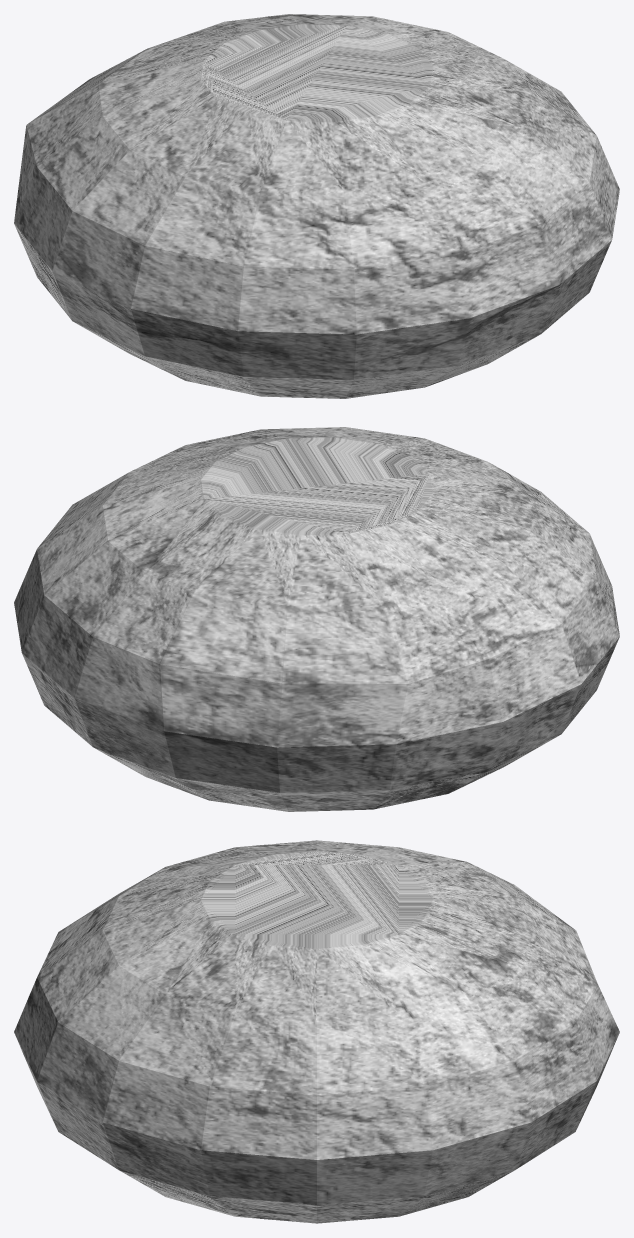
The model's file is rock3.glb.
3 views of the same model, one above another, from view 1: azimuth 30°, elevation 25°; view 2: azimuth 150°, elevation 25°; view 3: azimuth 270°, elevation 25° (orthographic).
Visible parts, largest first — view 1: 구체; view 2: 구체; view 3: 구체.
Boxes of the visible parts, box(x1,y1,x2,y2) form: 구체: box(14, 14, 619, 398); 구체: box(14, 427, 619, 811); 구체: box(14, 840, 619, 1223).
Size of the model in its own units: 2 by 0.8489 by 2.
1 material, 1 textured.
